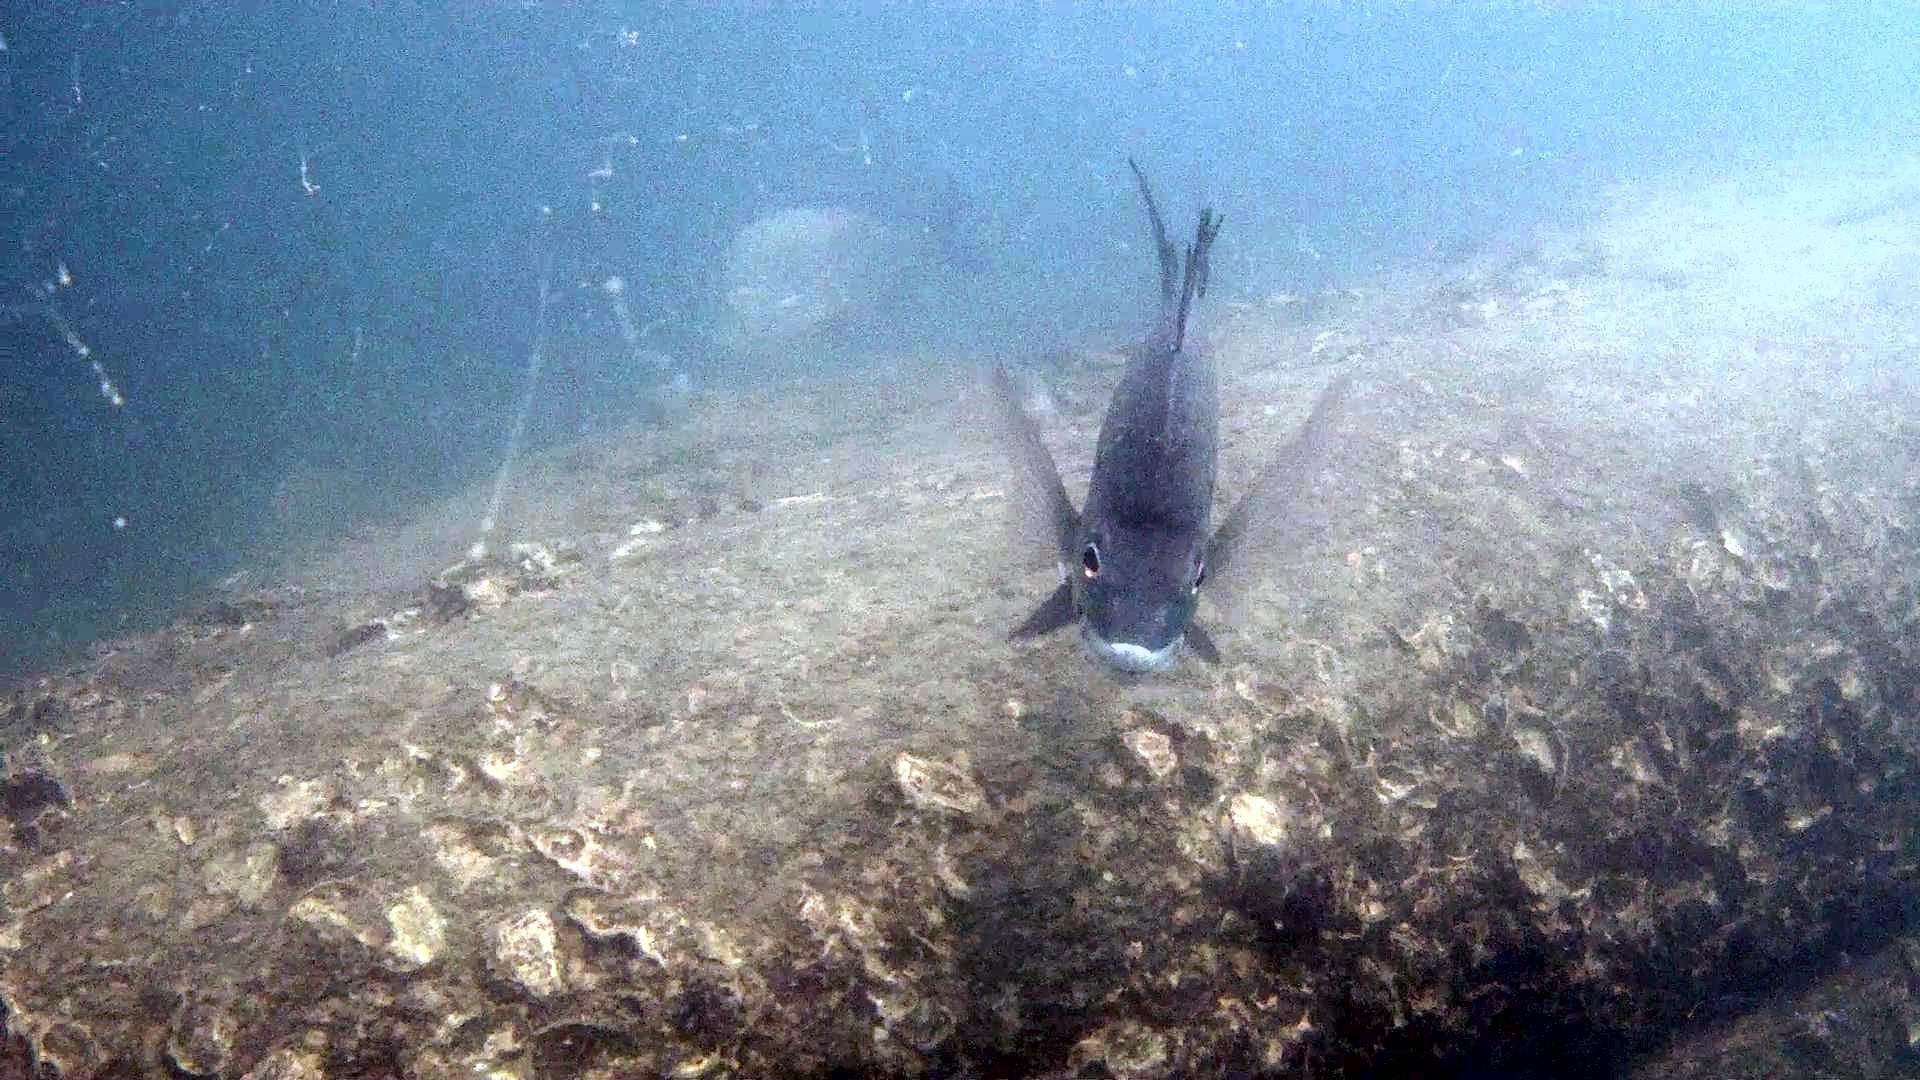acanthopagrus palmaris: (965, 156, 1360, 692)
